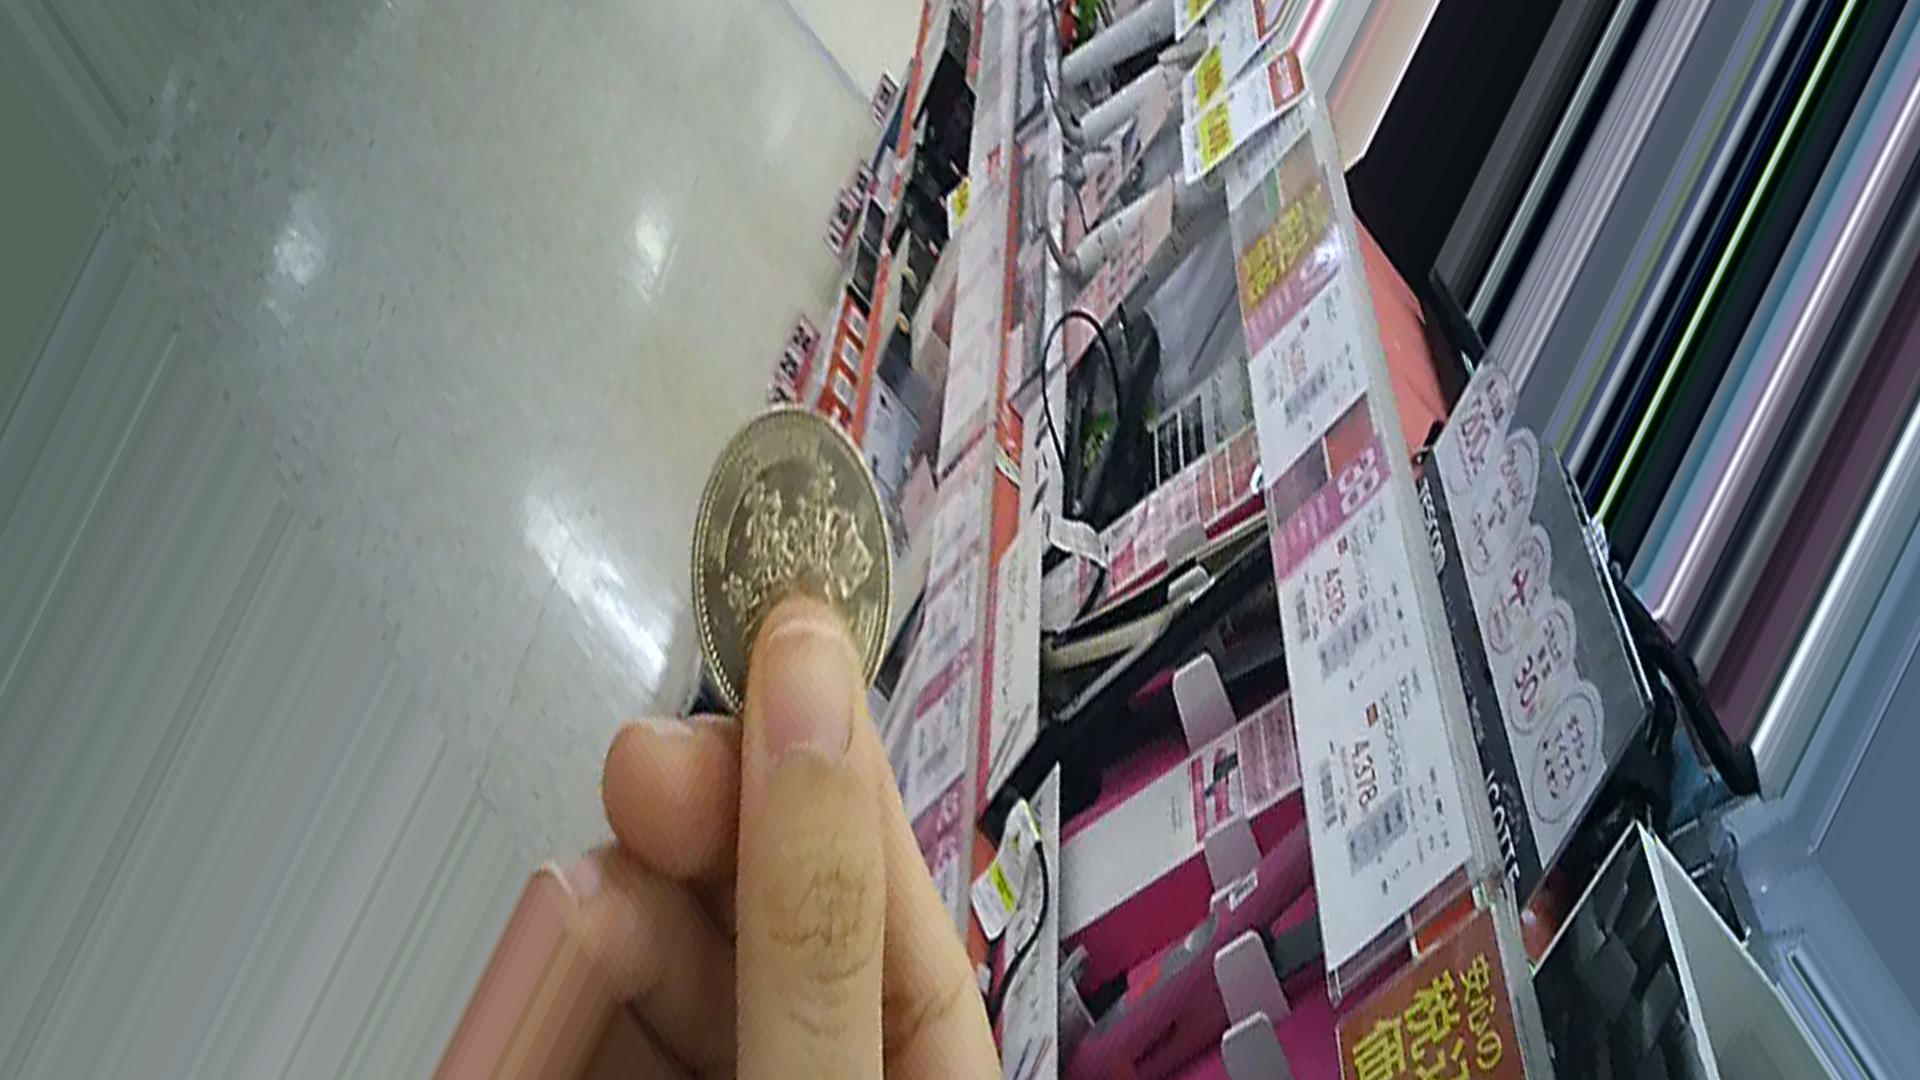500 Yen: (687, 405, 918, 746)
